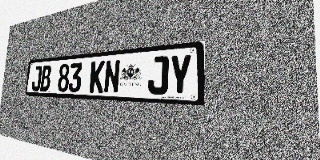3: (68, 62, 82, 92)
8: (57, 63, 70, 92)
B: (40, 65, 52, 91)
J: (147, 56, 169, 95), (31, 66, 42, 91)
K: (89, 61, 105, 93)
N: (103, 59, 121, 93)
Y: (168, 54, 192, 96)
